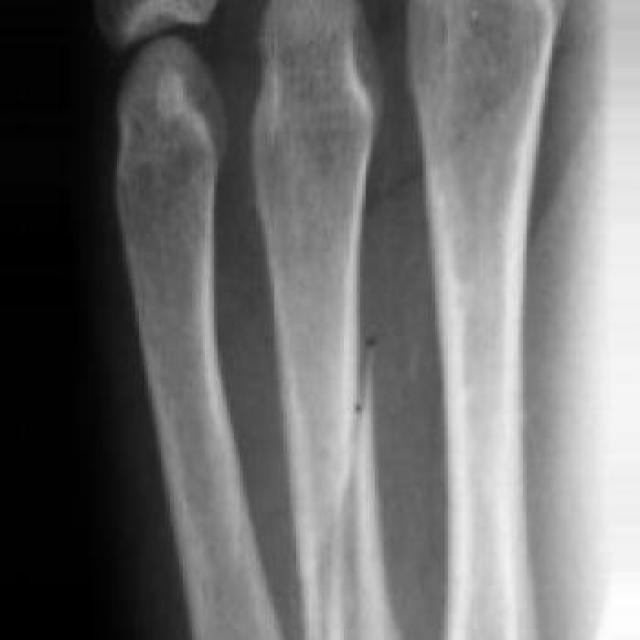Fracture: (301, 322, 392, 616)
